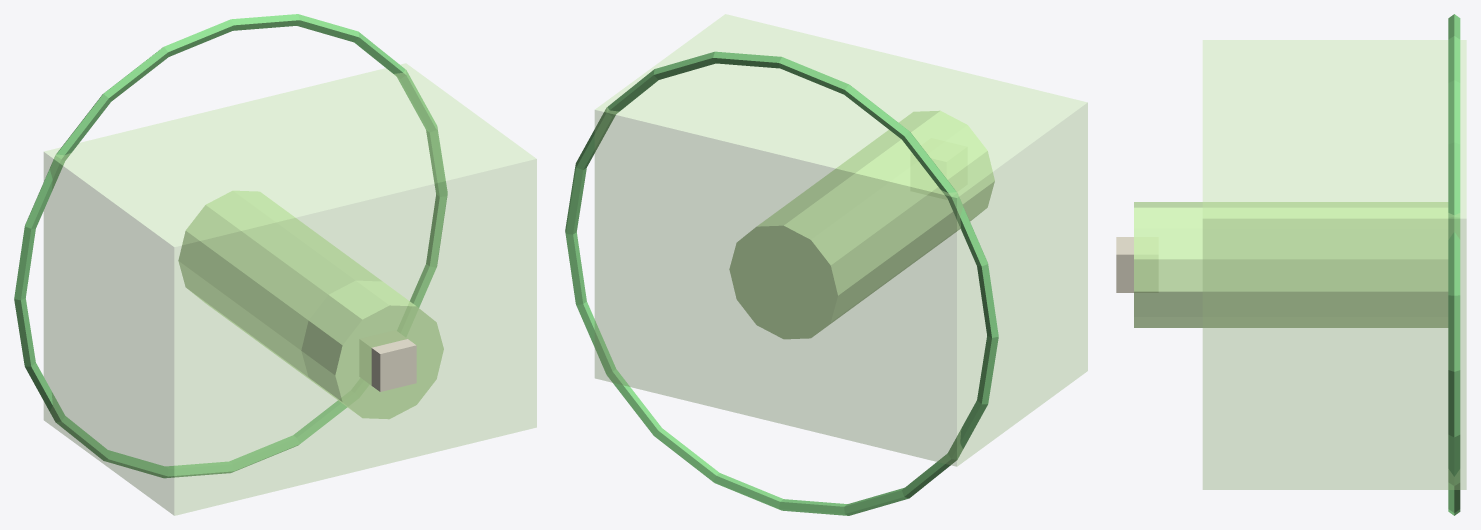
File: 01_lod_collision_overlay_1.glb
The picture shows the model from 3 angles, left to right: view 1: azimuth 30°, elevation 25°; view 2: azimuth 150°, elevation 25°; view 3: azimuth 270°, elevation 25°; orthographic projection.
Parts seen in each view (by area): view 1: lod_proxy_box, capsule_hint_center, bounds_ring_floor, pivot_marker; view 2: lod_proxy_box, capsule_hint_center, bounds_ring_floor; view 3: lod_proxy_box, capsule_hint_center, bounds_ring_floor, pivot_marker.
Part boxes in pixels (bbox=[...]): lod_proxy_box: bbox=[44, 63, 536, 515]; capsule_hint_center: bbox=[178, 190, 443, 419]; bounds_ring_floor: bbox=[14, 14, 447, 478]; pivot_marker: bbox=[360, 330, 416, 391]; lod_proxy_box: bbox=[595, 14, 1087, 466]; capsule_hint_center: bbox=[729, 110, 994, 339]; bounds_ring_floor: bbox=[565, 51, 998, 515]; lod_proxy_box: bbox=[1203, 40, 1466, 489]; capsule_hint_center: bbox=[1134, 202, 1448, 327]; bounds_ring_floor: bbox=[1448, 14, 1460, 515]; pivot_marker: bbox=[1116, 237, 1157, 292].
Bounding box in the file's own units: 1.44 × 1.44 × 0.995.
